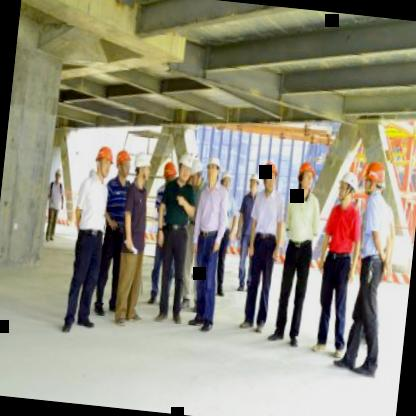helmet: (362, 156, 390, 199), (336, 167, 360, 208), (258, 158, 280, 196), (174, 146, 196, 184), (294, 158, 315, 196), (92, 144, 114, 180), (132, 150, 154, 186), (112, 146, 133, 182), (204, 153, 222, 187), (160, 156, 178, 190), (244, 168, 261, 198), (190, 155, 204, 190), (218, 166, 232, 192)
